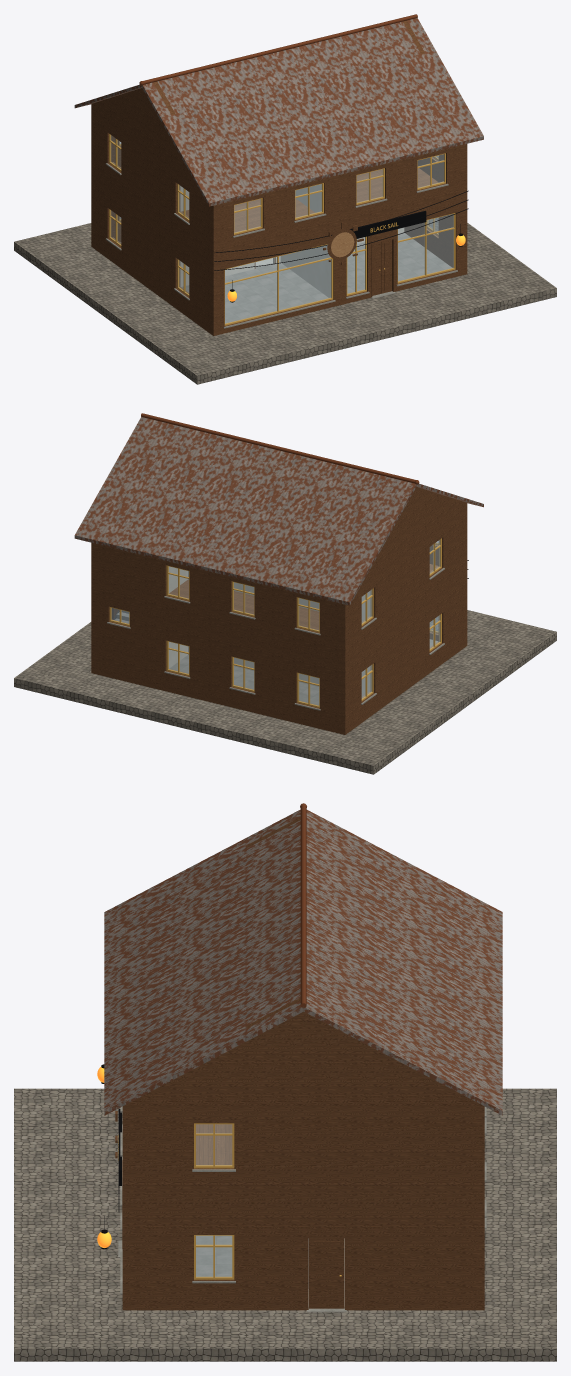
Rendered from b_pirate_tavern.gltf.
The picture shows the model from 3 angles, top to bottom: view 1: azimuth 30°, elevation 25°; view 2: azimuth 150°, elevation 25°; view 3: azimuth 270°, elevation 25°; orthographic projection. The views are drawn at different scales.
Visible parts, largest first — view 1: S_pirate_tavern, D_pirate_tavern_F1_S3_Door1, D_pirate_tavern_F1_S3_Door0; view 2: S_pirate_tavern; view 3: S_pirate_tavern, D_pirate_tavern_F1_E1_Door0.
Boxes of the visible parts, box(x1,y1,x2,y2) form: S_pirate_tavern: box(14, 14, 556, 384); D_pirate_tavern_F1_S3_Door1: box(381, 239, 391, 293); D_pirate_tavern_F1_S3_Door0: box(372, 242, 381, 295); S_pirate_tavern: box(14, 413, 556, 774); S_pirate_tavern: box(14, 803, 556, 1361); D_pirate_tavern_F1_E1_Door0: box(309, 1238, 344, 1308).
Size of the model in its own units: 17 by 10.01 by 15.
Materials: 19 (11 with a texture image).
